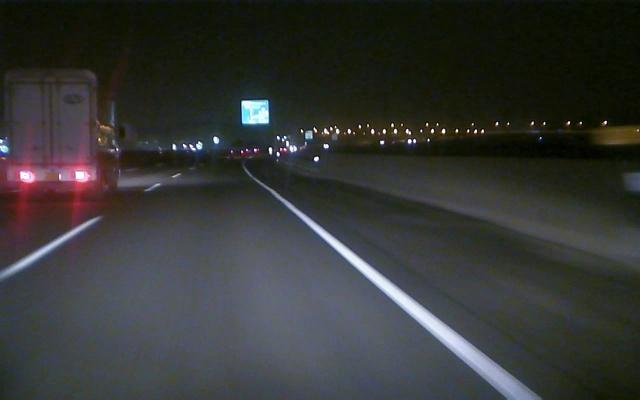lane: (266, 188, 543, 399), (1, 219, 98, 279)
